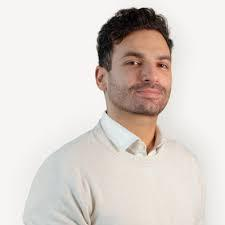person: (91, 2, 186, 120)
